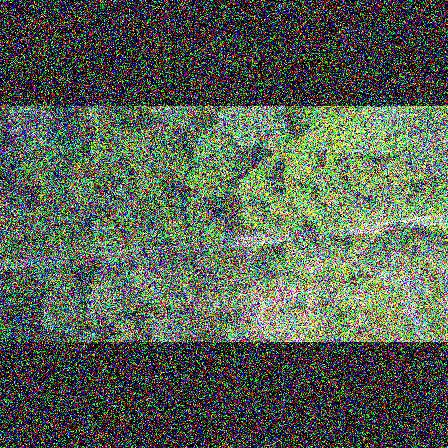Dead: (355, 266, 429, 297)
